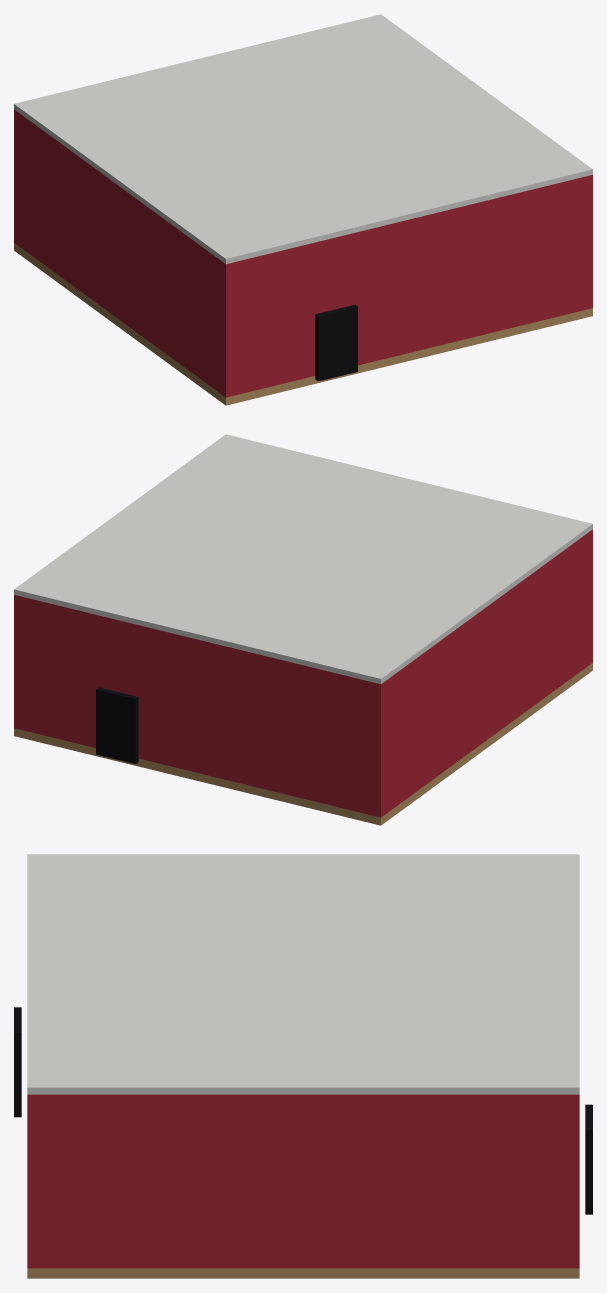
File: rdwe_melting_library.glb
3 renders of one model, top to bottom at view 1: azimuth 30°, elevation 25°; view 2: azimuth 150°, elevation 25°; view 3: azimuth 270°, elevation 25°, orthographic. The views are drawn at different scales.
Visible parts, largest first — view 1: Room_Ceiling, Room_Wall_S_3, Room_Wall_W_1, Room_Wall_S_1, Room_Floor, Beyond_map, Room_Wall_S_2; view 2: Room_Ceiling, Room_Wall_N_1, Room_Wall_W_1, Room_Wall_N_3, Room_Floor, Beyond_arch, Room_Wall_N_2; view 3: Room_Ceiling, Room_Wall_E_1, Room_Floor, Room_Wall_N_3, Room_Wall_S_3, Beyond_arch, Beyond_map.
Boxes of the visible parts, x1,y1,x2,y2 form: Room_Ceiling: (14,14,592,264); Room_Wall_S_3: (347,175,592,365); Room_Wall_W_1: (17,111,222,395); Room_Wall_S_1: (223,241,318,397); Room_Floor: (14,243,592,405); Beyond_map: (315,304,357,381); Room_Wall_S_2: (319,235,346,313); Room_Ceiling: (14,434,592,684); Room_Wall_N_1: (135,624,383,817); Room_Wall_W_1: (384,531,589,815); Room_Wall_N_3: (14,595,106,747); Room_Floor: (14,663,592,825); Beyond_arch: (96,687,138,763); Room_Wall_N_2: (107,617,134,695); Room_Ceiling: (27,854,579,1094); Room_Wall_E_1: (35,1094,571,1268); Room_Floor: (27,1268,579,1278); Room_Wall_N_3: (572,1094,579,1268); Room_Wall_S_3: (27,1094,34,1268); Beyond_arch: (585,1104,592,1214); Beyond_map: (14,1007,21,1117).
Size of the model in its own units: 14.4 by 5.5 by 15.1.
